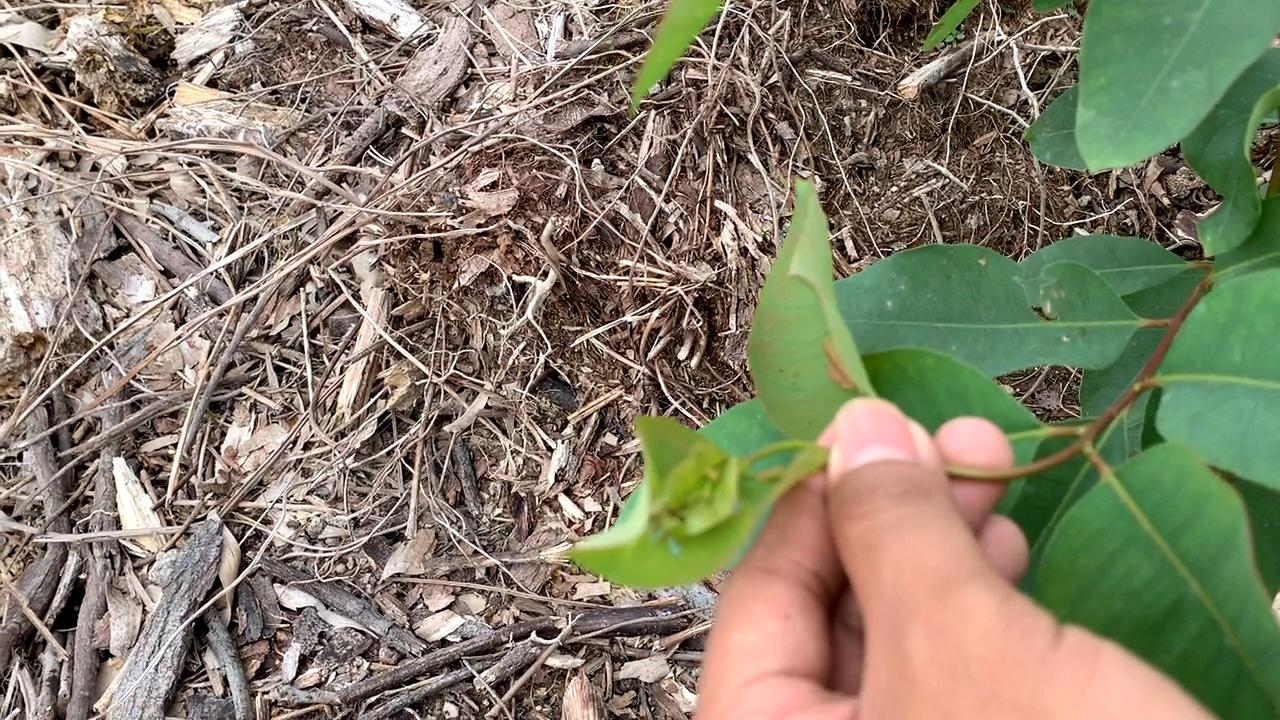Leaf Roller - Leaf: (565, 413, 793, 597)
